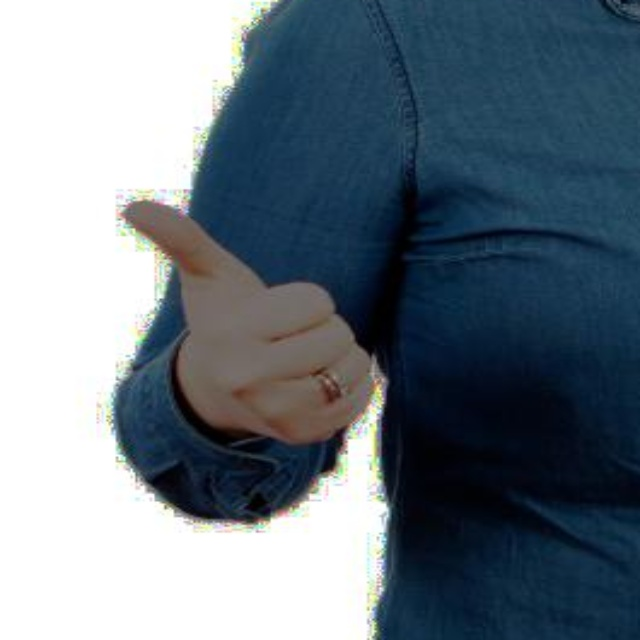thumbs_up: (110, 187, 380, 453)
